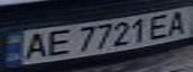1: (127, 16, 151, 44)
2: (112, 19, 136, 47)
7: (72, 24, 96, 54), (93, 20, 115, 51)
A: (18, 30, 51, 61), (163, 8, 193, 37)
E: (39, 27, 75, 58), (145, 11, 175, 39)
